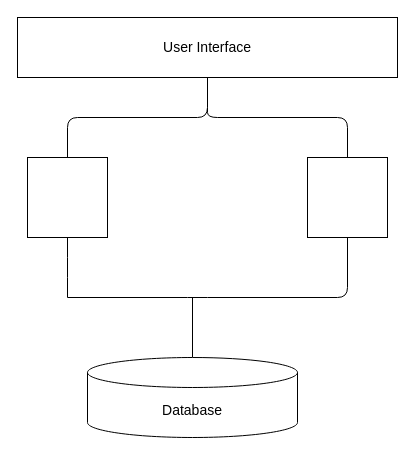
The diagram is 415 pixels wide and 455 high, and some of its shapes have lost their labels. Each missing label, with the centre of its shape:
"Book ticket" belongs at pixel 67 197.
"Manage Flight" belongs at pixel 347 197.
